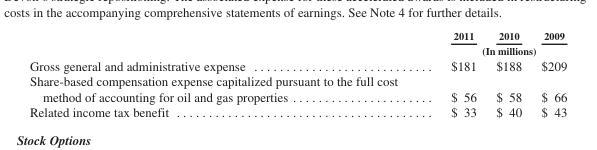table: (28, 29, 566, 119)
table column: (28, 29, 423, 119), (423, 29, 485, 119), (485, 29, 530, 119), (530, 29, 566, 119)
table column header: (28, 29, 566, 57)
table row: (28, 73, 566, 104), (28, 57, 566, 73), (28, 42, 566, 57), (28, 104, 566, 119), (28, 29, 566, 42)
table spanning cell: (423, 42, 566, 57)
